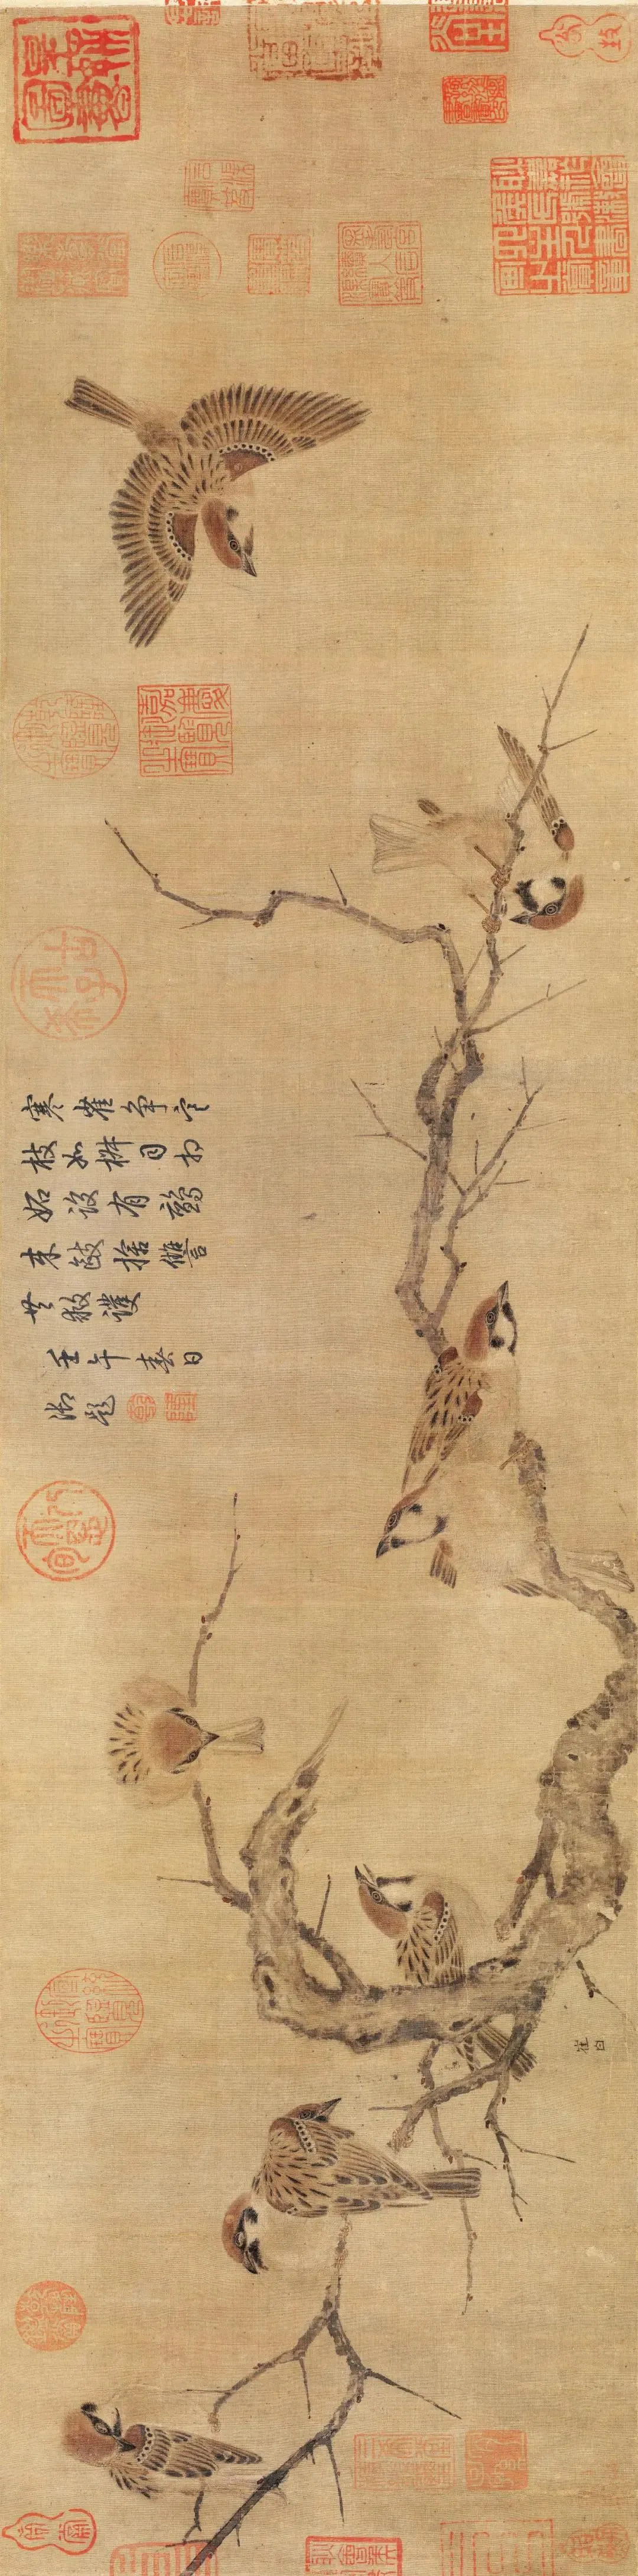bird: (38, 363, 385, 651), (372, 710, 594, 986), (199, 2109, 479, 2292), (373, 1290, 521, 1572), (72, 1682, 296, 1812), (46, 2380, 293, 2495), (342, 1879, 518, 1996)
tree: (118, 884, 638, 2576)
